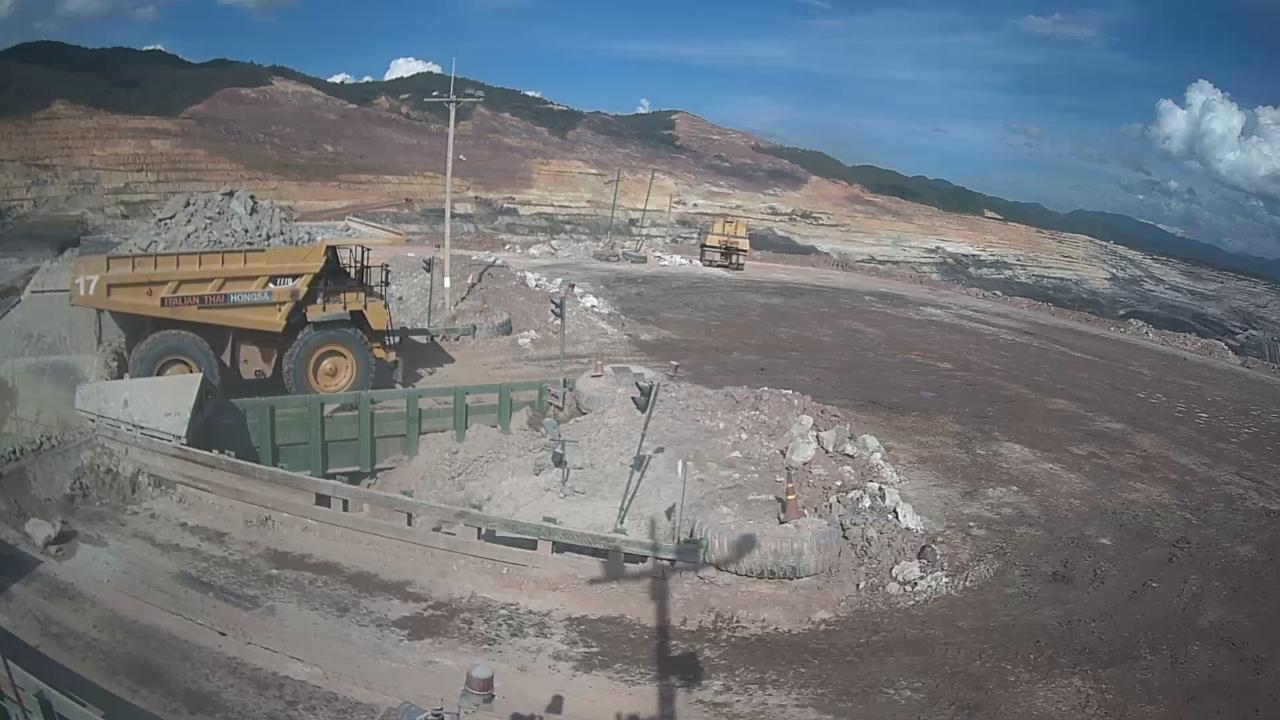company: (154, 292, 286, 311)
full_load: (138, 192, 320, 253)
mining_truck: (66, 176, 417, 402)
tail_number: (73, 272, 103, 298)
truck_size: (269, 270, 298, 291)
